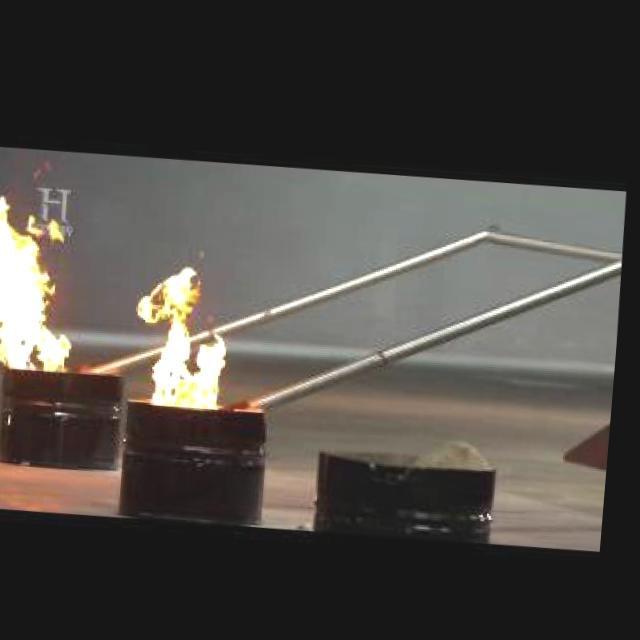helmet: (138, 251, 266, 408), (0, 175, 99, 376)
